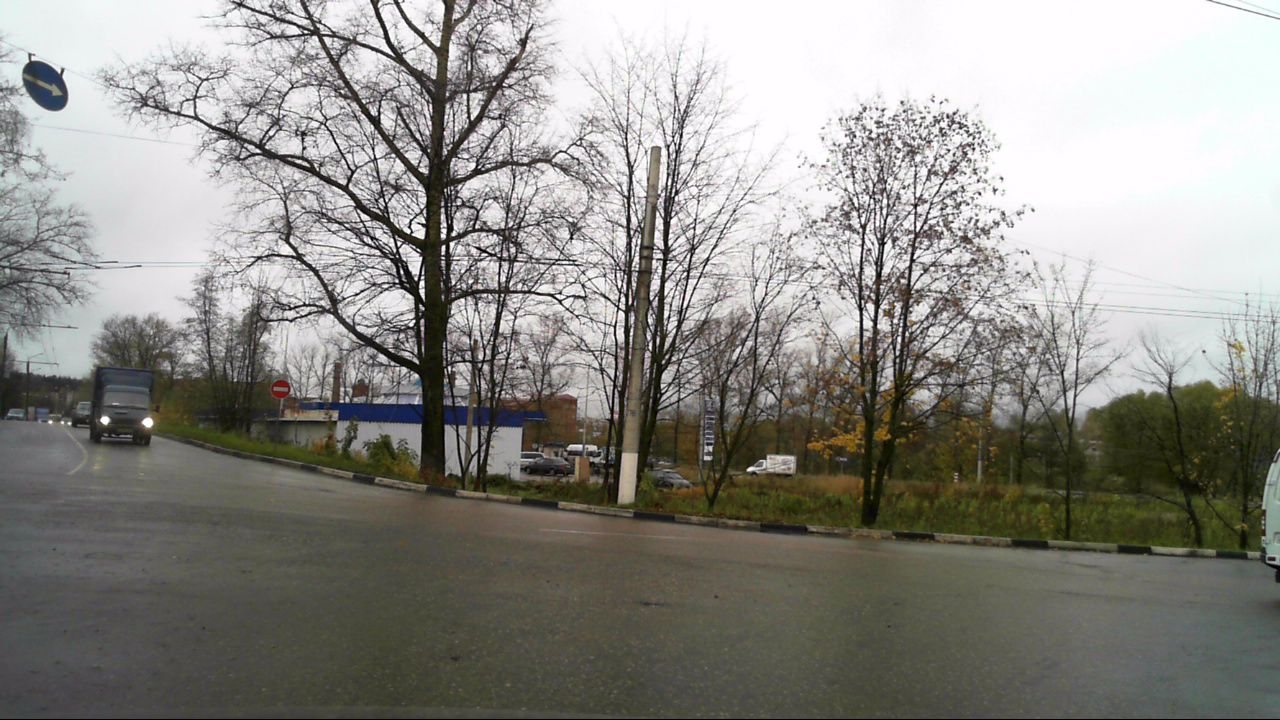Turn Right: (22, 60, 69, 112)
